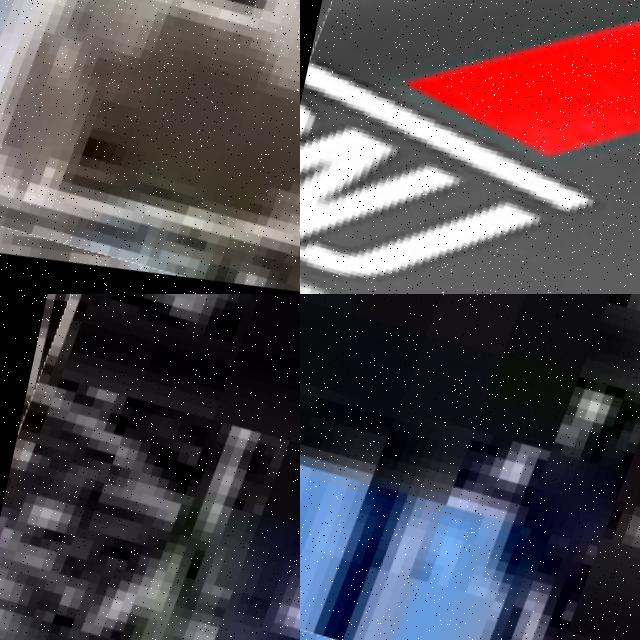drone: (300, 294, 640, 640), (0, 294, 300, 640), (300, 0, 640, 294), (0, 0, 300, 294)
